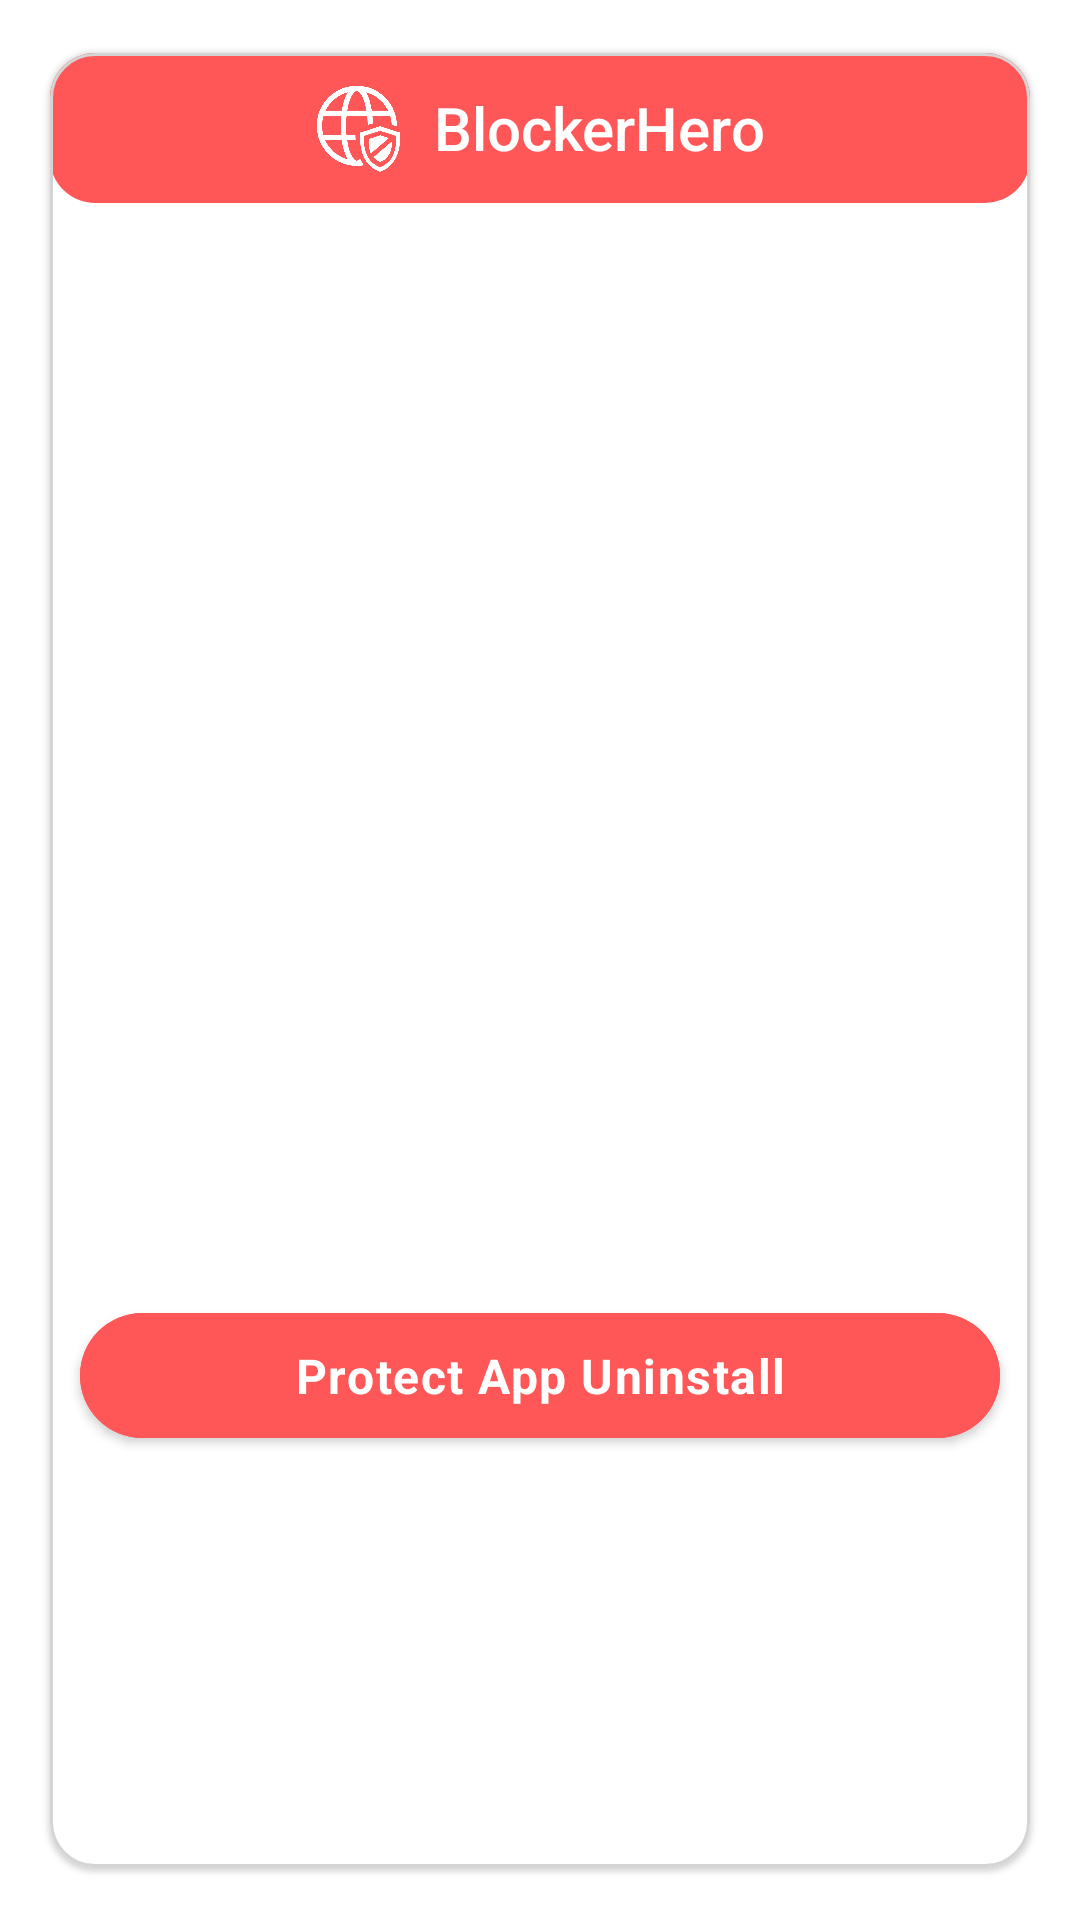

Icons on this 1080 × 1920 Android screen, each with its box as BBox(x1, y1, x2, y2):
app: BBox(317, 86, 400, 172)
